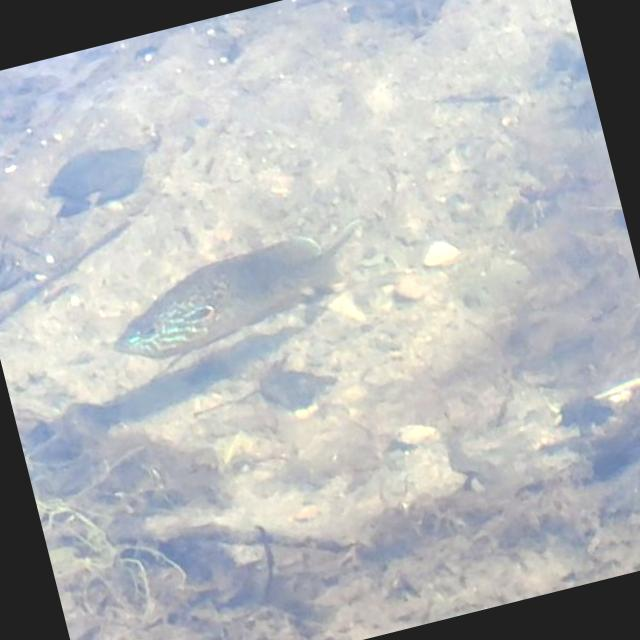Gunes Levregi: (98, 208, 406, 376)
